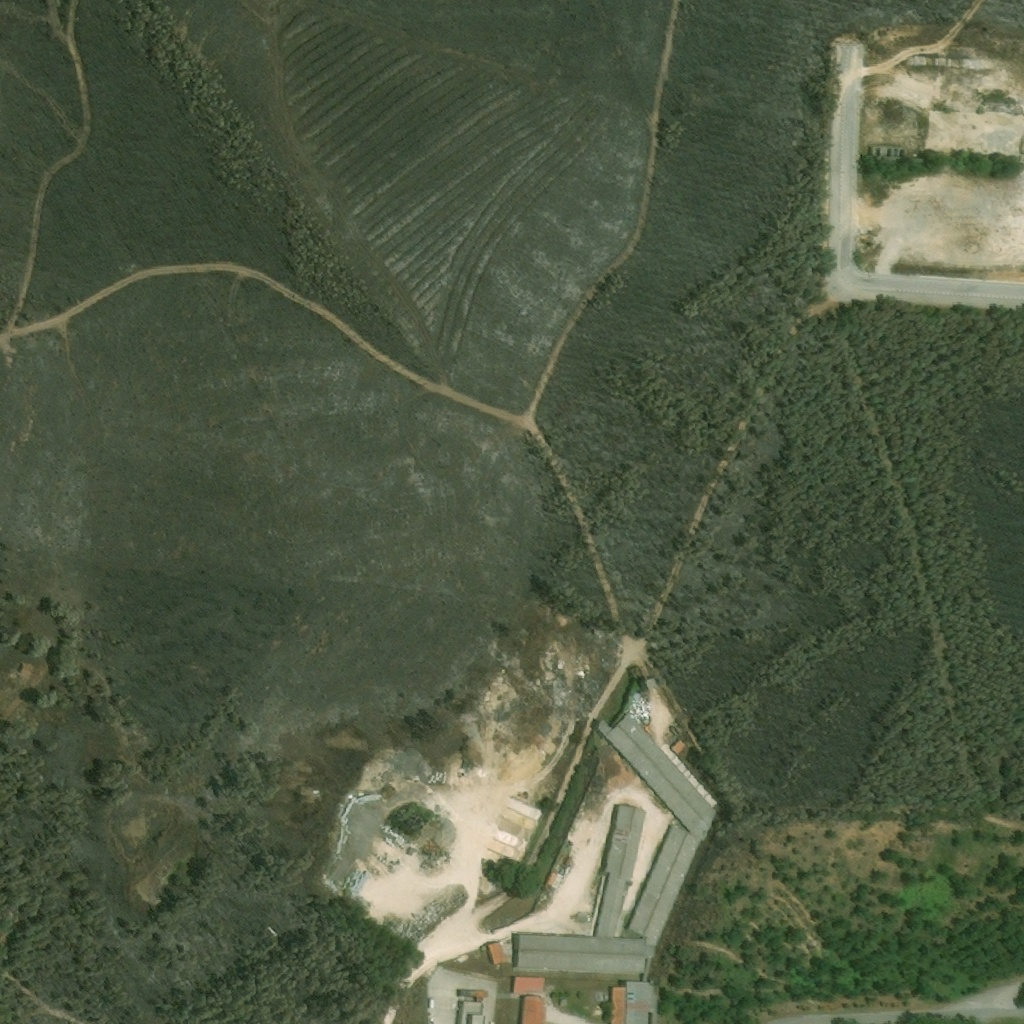0 no-damage: (511, 712, 715, 975), (608, 981, 662, 1023), (509, 976, 543, 996), (453, 1002, 485, 1023), (517, 997, 541, 1023), (483, 942, 504, 966), (454, 991, 485, 1002), (669, 739, 685, 755)
